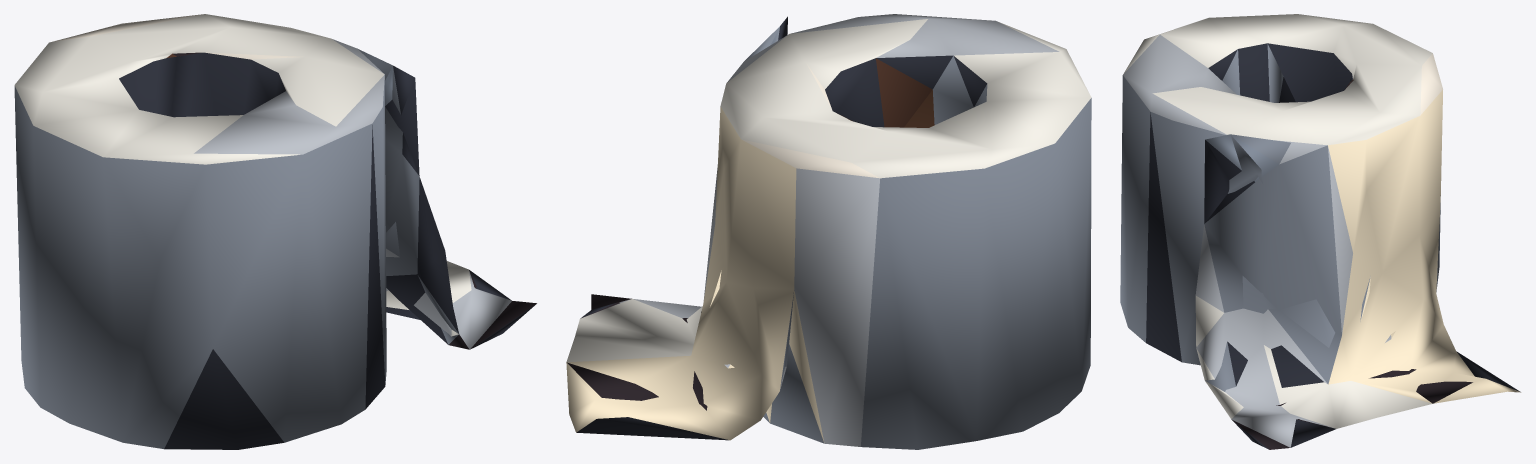
File: SM_toilet_paper.fbx
3 renders of one model, left to right at view 1: azimuth 30°, elevation 25°; view 2: azimuth 150°, elevation 25°; view 3: azimuth 270°, elevation 25°, orthographic. The views are drawn at different scales.
Parts seen in each view (by area): view 1: SM_toilet_paper; view 2: SM_toilet_paper; view 3: SM_toilet_paper.
Boxes of the visible parts, x1,y1,x2,y2 form: SM_toilet_paper: (14, 14, 536, 449); SM_toilet_paper: (566, 14, 1091, 449); SM_toilet_paper: (1120, 14, 1521, 449).
Bounding box in the file's own units: 21.42 × 13 × 18.29.
Materials: 1 (1 with a texture image).
